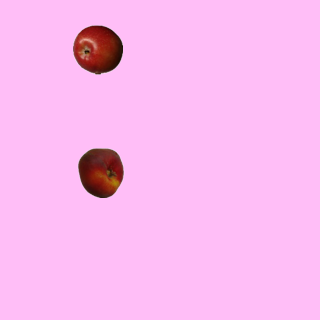Apple Braeburn: (72, 24, 122, 74)
Nectarine Flat: (75, 147, 125, 197)
